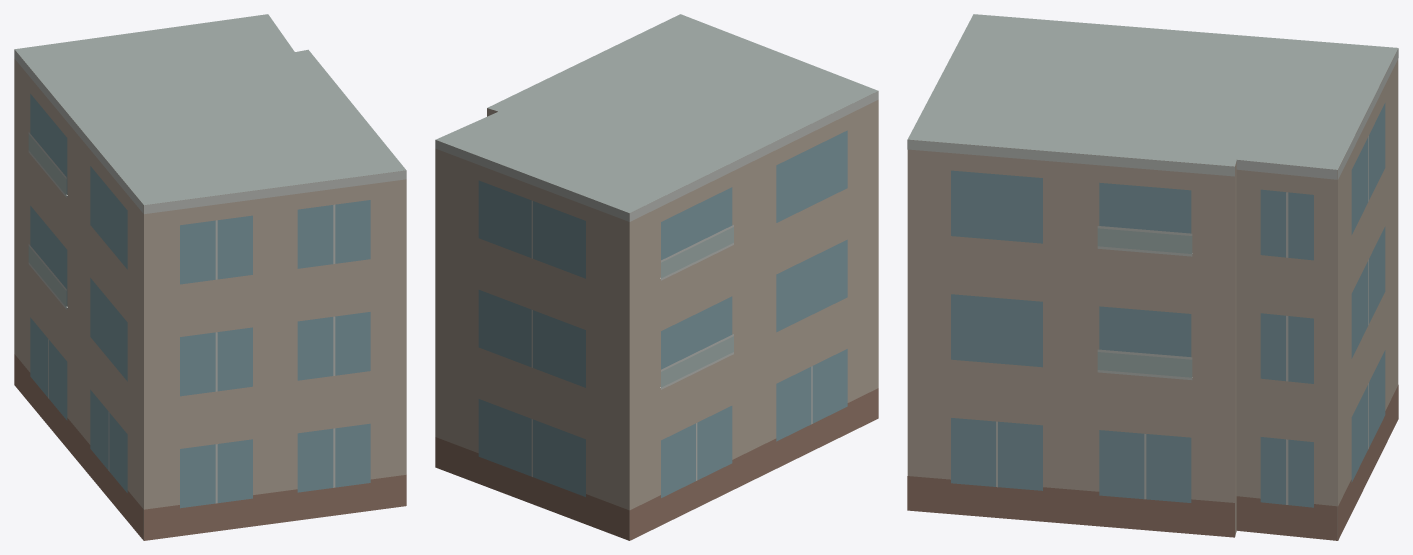
The model's file is survey-upis-32653715.glb.
3 views of the same model, side by side, from view 1: azimuth 30°, elevation 25°; view 2: azimuth 150°, elevation 25°; view 3: azimuth 270°, elevation 25° (orthographic). The views are drawn at different scales.
Parts seen in each view (by area): view 1: survey-upis-32653715.tmp; view 2: survey-upis-32653715.tmp; view 3: survey-upis-32653715.tmp.
Part boxes in pixels (left/top/right/bottom): survey-upis-32653715.tmp: left=14, top=14, right=406, bottom=540; survey-upis-32653715.tmp: left=435, top=14, right=878, bottom=540; survey-upis-32653715.tmp: left=907, top=14, right=1398, bottom=540.
Size of the model in its own units: 8.21 by 9.1 by 10.93.
